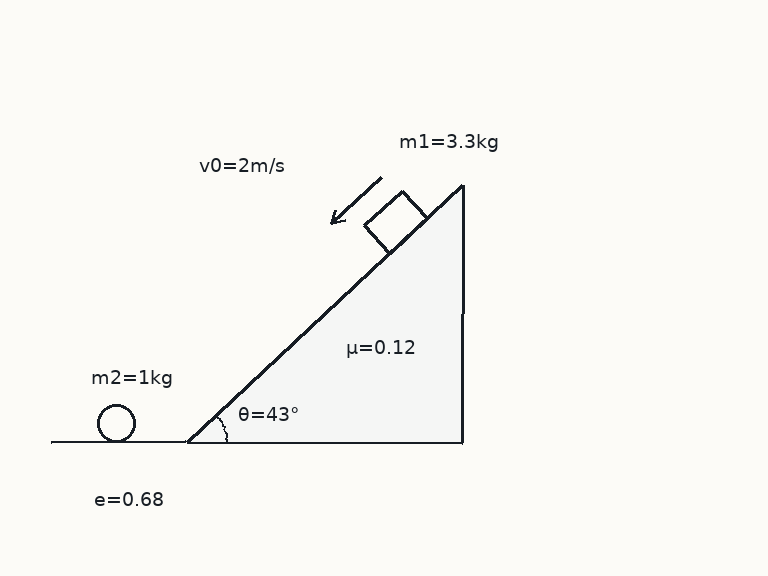ball: (95, 402, 137, 444)
block: (362, 189, 429, 255)
ramp: (185, 184, 464, 444)
